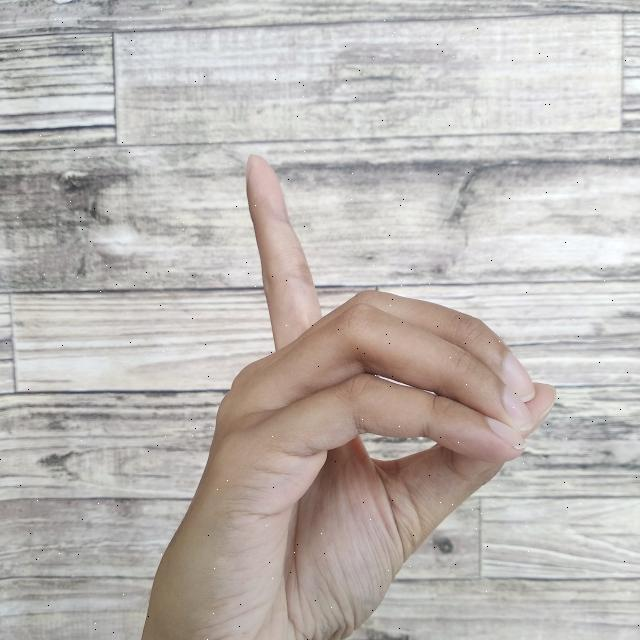D: (137, 149, 554, 640)
